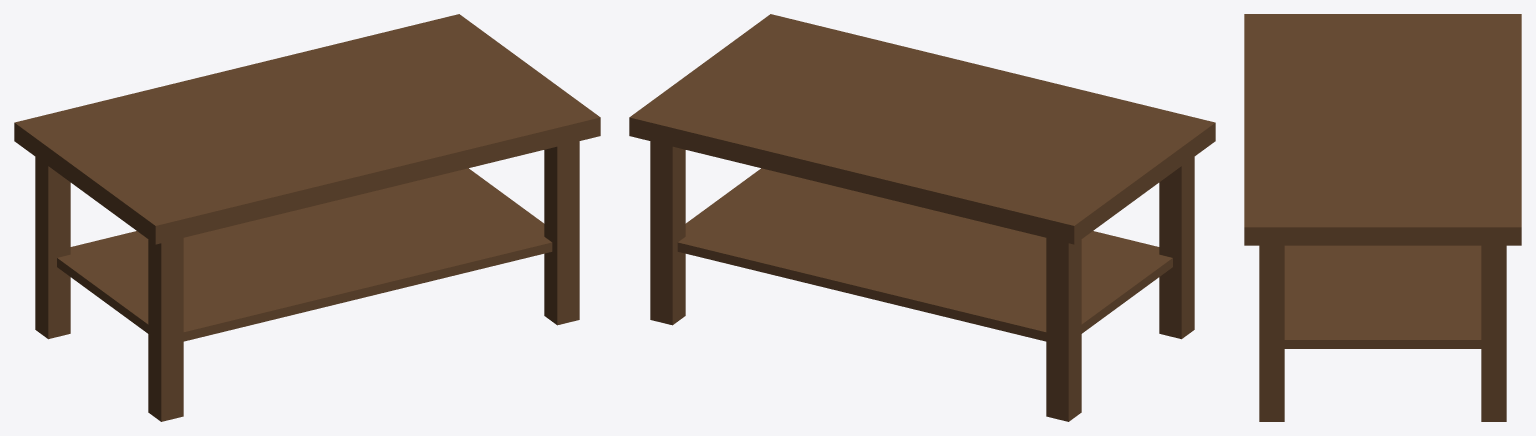
The model's file is GH_Table_Coffee_01.glb.
3 views of the same model, side by side, from view 1: azimuth 30°, elevation 25°; view 2: azimuth 150°, elevation 25°; view 3: azimuth 270°, elevation 25° (orthographic).
Parts seen in each view (by area): view 1: GH_Table_Coffee_01; view 2: GH_Table_Coffee_01; view 3: GH_Table_Coffee_01.
Boxes of the visible parts, x1=… form: GH_Table_Coffee_01: x1=14, y1=14, x2=600, y2=421; GH_Table_Coffee_01: x1=629, y1=14, x2=1215, y2=421; GH_Table_Coffee_01: x1=1244, y1=14, x2=1521, y2=421.
Bounding box in the file's own units: 1 × 0.44 × 0.55.
Materials: 1 (1 with a texture image).
